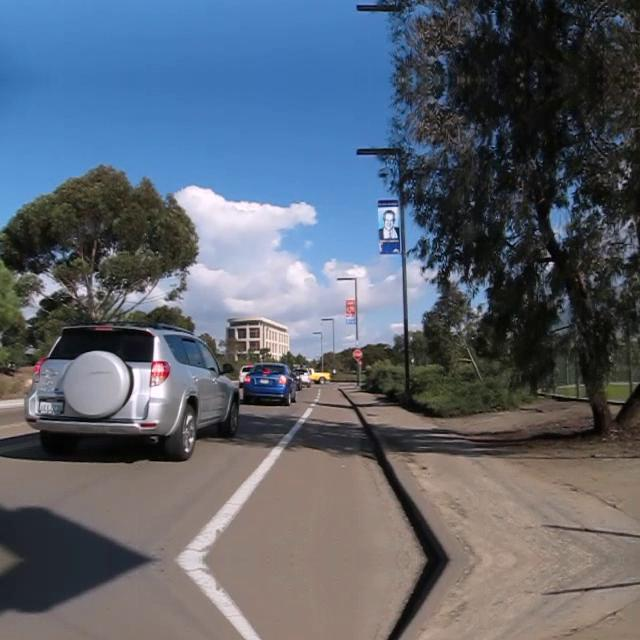stop: (352, 348, 362, 360)
